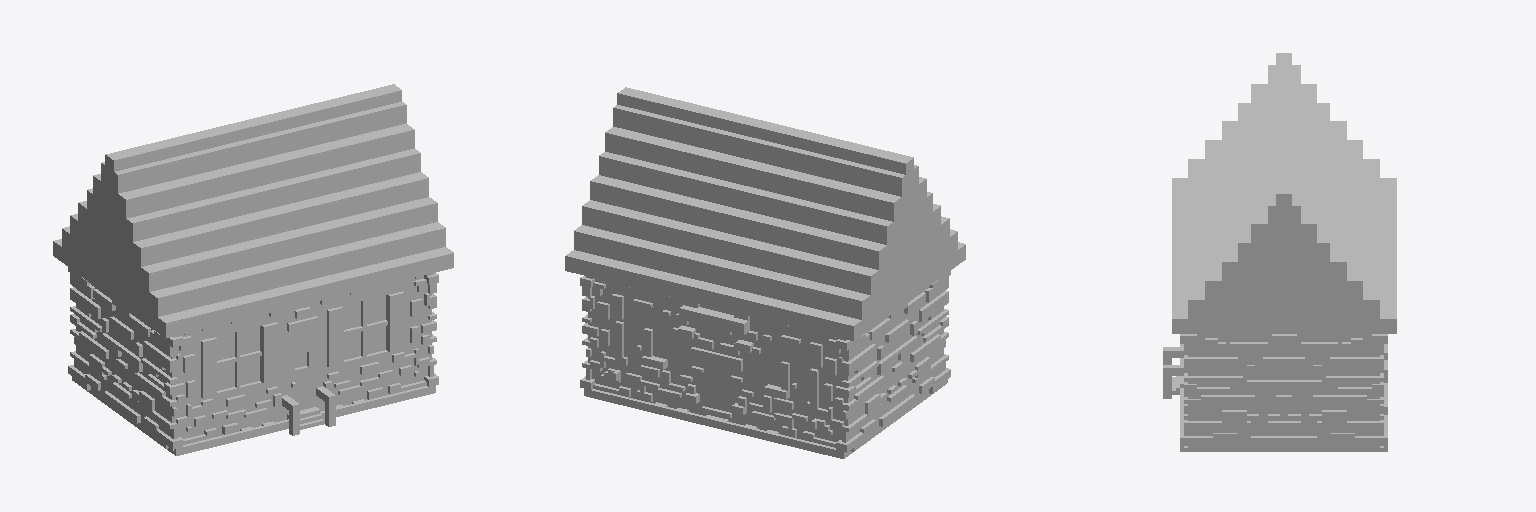
File: house_1.obj
3 views of the same model, side by side, from view 1: azimuth 30°, elevation 25°; view 2: azimuth 150°, elevation 25°; view 3: azimuth 270°, elevation 25° (orthographic).
Visible parts, largest first — view 1: house_1; view 2: house_1; view 3: house_1.
Part boxes in pixels (x1,y1,x2,y2): house_1: (53,84,453,455); house_1: (565,87,965,458); house_1: (1163,53,1396,451).
Size of the model in its own units: 80 by 70 by 56.